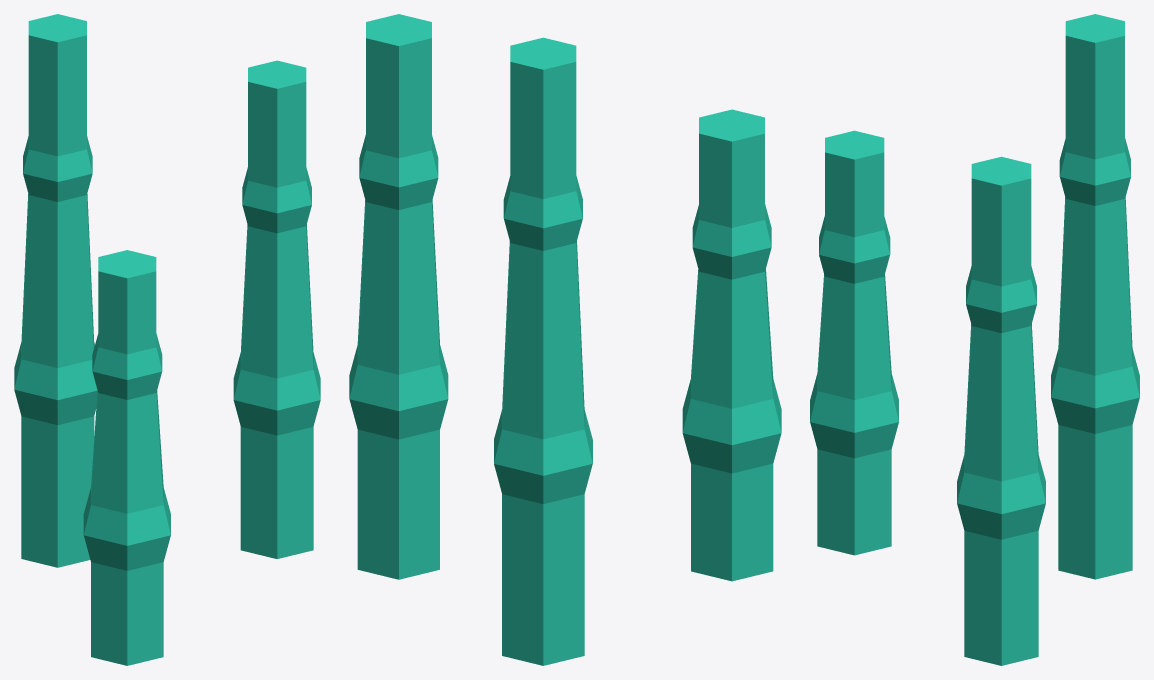
The model's file is crops_bambooStageA.glb.
3 renders of one model, left to right at view 1: azimuth 30°, elevation 25°; view 2: azimuth 150°, elevation 25°; view 3: azimuth 270°, elevation 25°, orthographic. The views are drawn at different scales.
Visible parts, largest first — view 1: crops_bambooStageA; view 2: crops_bambooStageA; view 3: crops_bambooStageA.
Part boxes in pixels (box(x1,y1,x2,y2)): crops_bambooStageA: box(14, 14, 320, 665); crops_bambooStageA: box(349, 14, 781, 665); crops_bambooStageA: box(810, 14, 1139, 665).
Size of the model in its own units: 0.3401 by 0.549 by 0.308.
